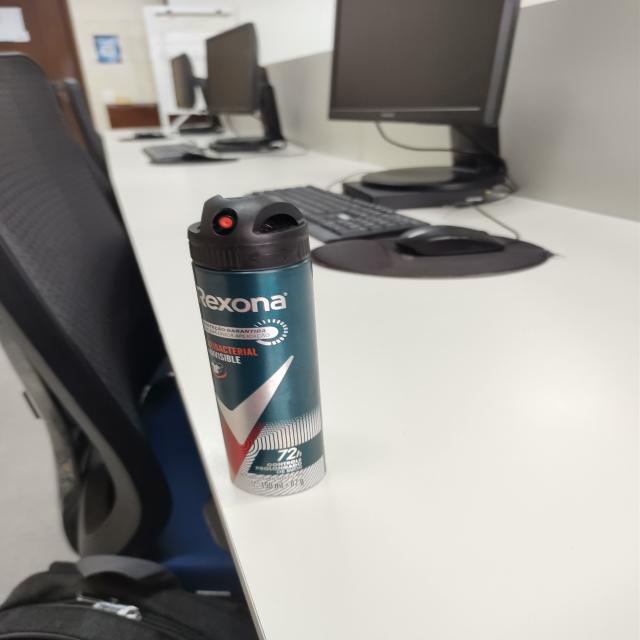Desodorante Azul: (188, 196, 326, 496)
